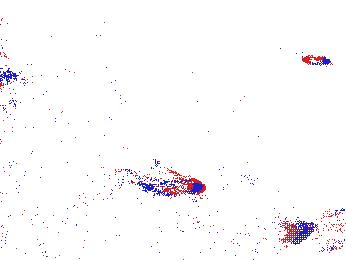red belly glassfish: (117, 166, 203, 198), (295, 54, 331, 68)
redtail glassfish: (283, 211, 346, 248), (191, 173, 255, 205)
